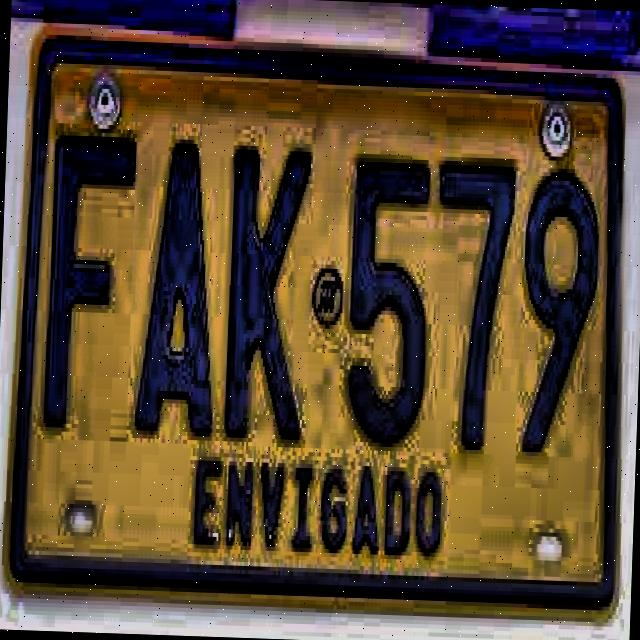plate: (5, 28, 622, 611)
